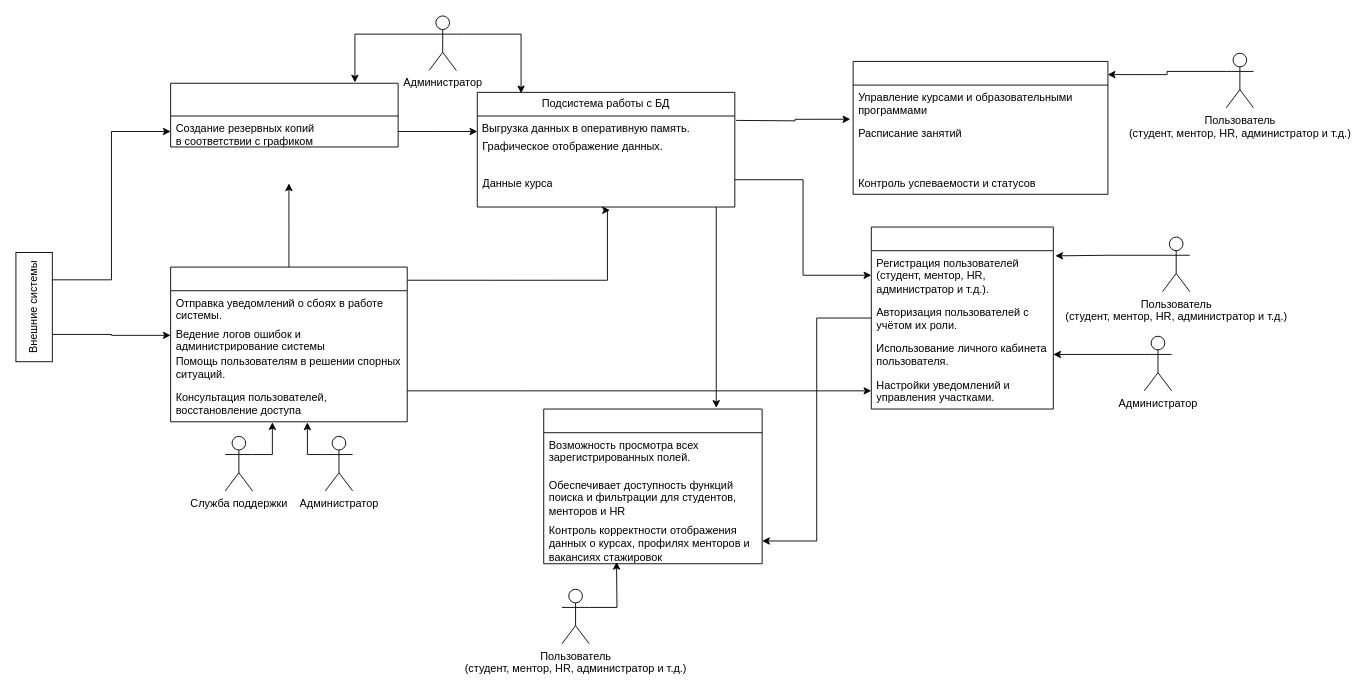
This 1367x693 diagram has some shape labels left out. Here are the shapes that lost their labels. From the top down, the box of each, then its label:
(170, 82, 398, 147): Подсистема обработки, хранения и поддержки БД
(852, 61, 1108, 194): Подсистема управления образовательным процессом
(870, 226, 1053, 409): Подсистема работы с пользователем
(170, 266, 407, 422): Подсистема поддержки
(543, 408, 762, 564): Подсистема поиска и просмотра
